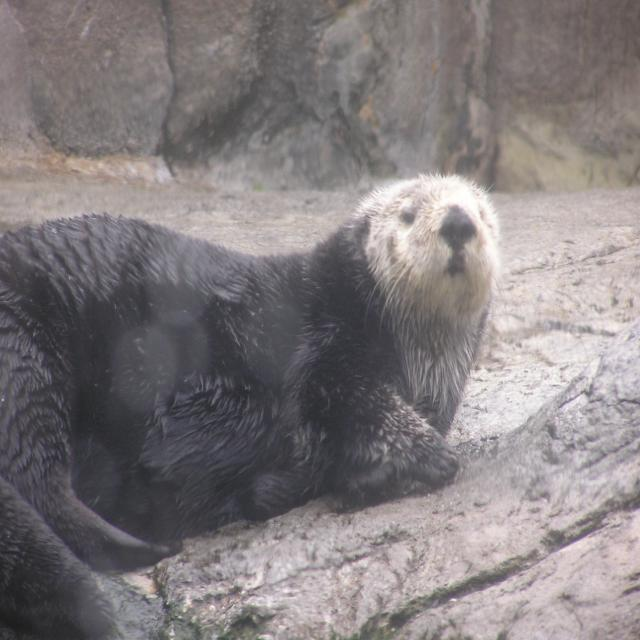otter: (1, 176, 501, 640)
